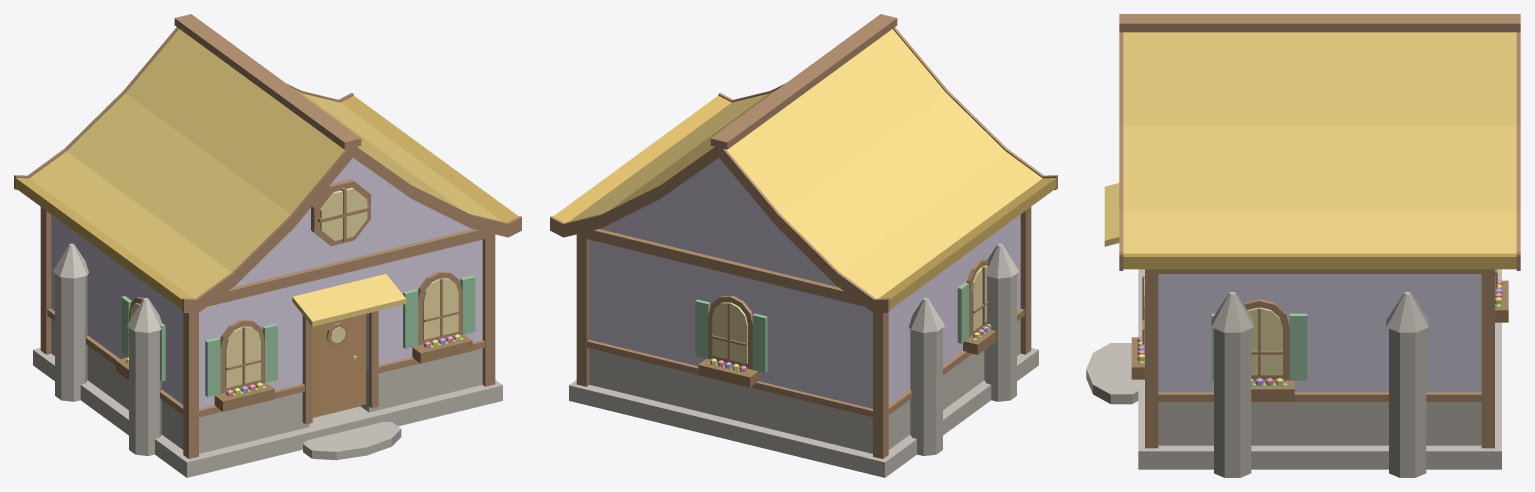
File: chapel_lilac.glb
The picture shows the model from 3 angles, left to right: view 1: azimuth 30°, elevation 25°; view 2: azimuth 150°, elevation 25°; view 3: azimuth 270°, elevation 25°; orthographic projection. The views are drawn at different scales.
Parts seen in each view (by area): view 1: Player; view 2: Player; view 3: Player.
Part boxes in pixels (box(x1,y1,x2,y2)): Player: box(14, 14, 521, 477); Player: box(550, 14, 1057, 477); Player: box(1086, 14, 1520, 477).
Size of the model in its own units: 7.07 by 5.89 by 6.45.
